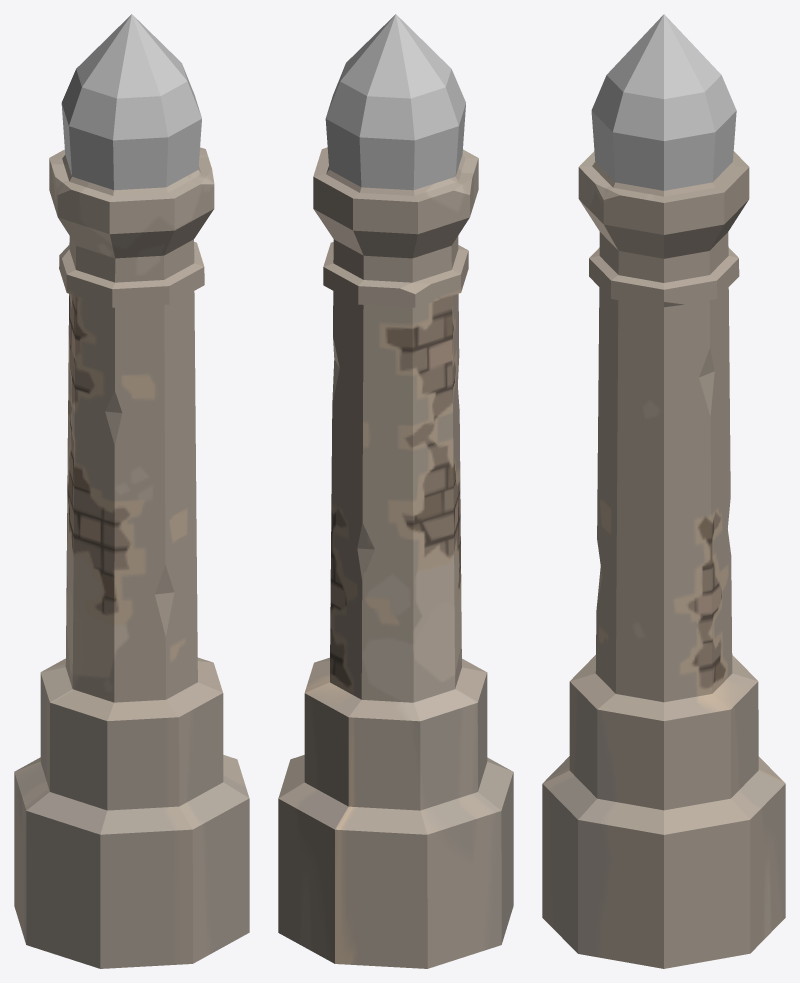
The model's file is SM_Bld_Pillar_02.fbx.
The picture shows the model from 3 angles, left to right: view 1: azimuth 30°, elevation 25°; view 2: azimuth 150°, elevation 25°; view 3: azimuth 270°, elevation 25°; orthographic projection.
Parts seen in each view (by area): view 1: SM_Bld_Pillar_02; view 2: SM_Bld_Pillar_02; view 3: SM_Bld_Pillar_02.
Boxes of the visible parts, x1,y1,x2,y2 form: SM_Bld_Pillar_02: (14, 14, 249, 968); SM_Bld_Pillar_02: (278, 14, 513, 968); SM_Bld_Pillar_02: (542, 14, 785, 968).
Size of the model in its own units: 204 by 835 by 204.
